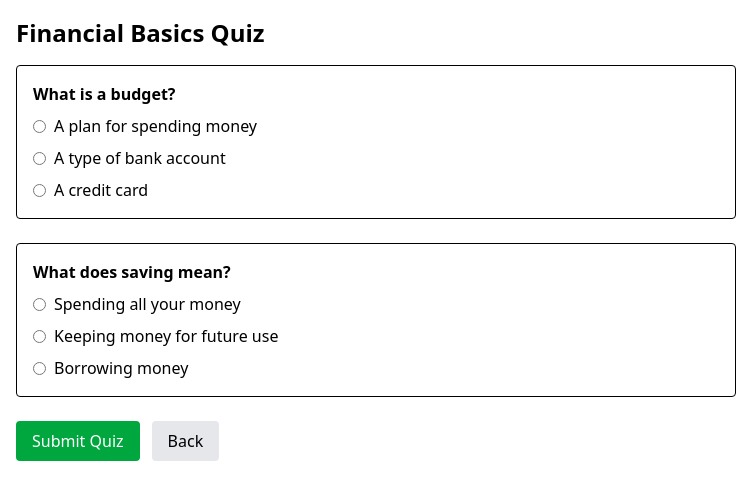
Test: Quiz › shows error when quiz submission fails
The width and height of the screenshot is (753, 478).
Expected: the heading "Financial Basics Quiz" is shown, [16,16,264,49]
Click the radio button labelled "A plan for spending money" at {"x": 40, "y": 126}, box [33,120,46,132]
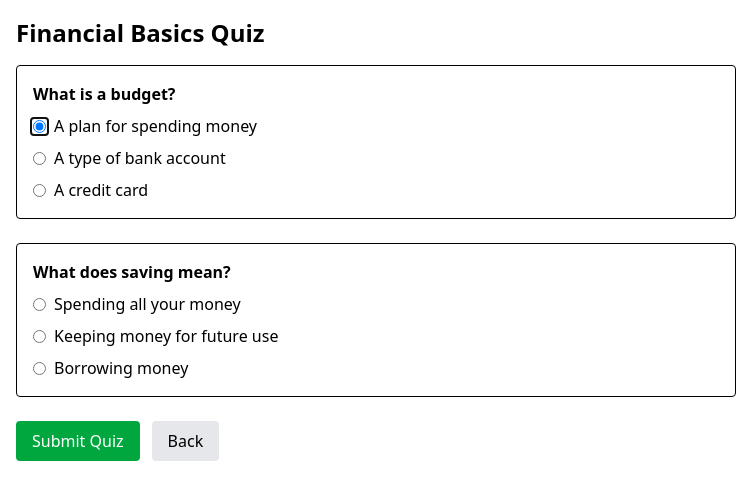
Click the button "Submit Quiz" at {"x": 78, "y": 441}, box [16,421,140,461]
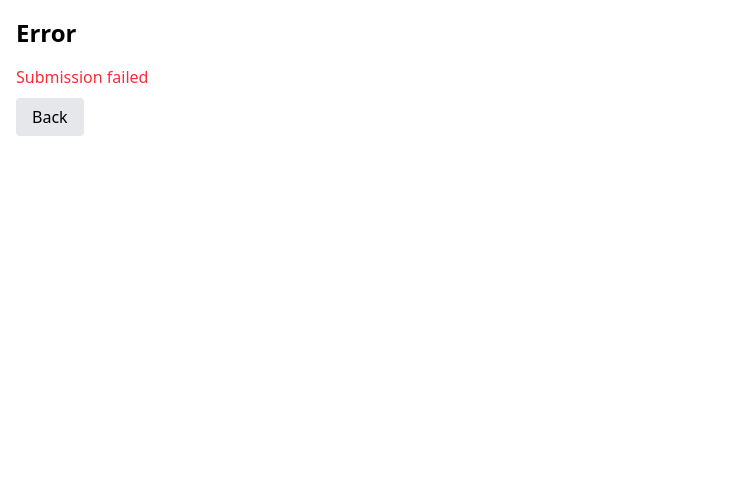
Now the text "Submission failed" is shown, box [16,66,148,88]
